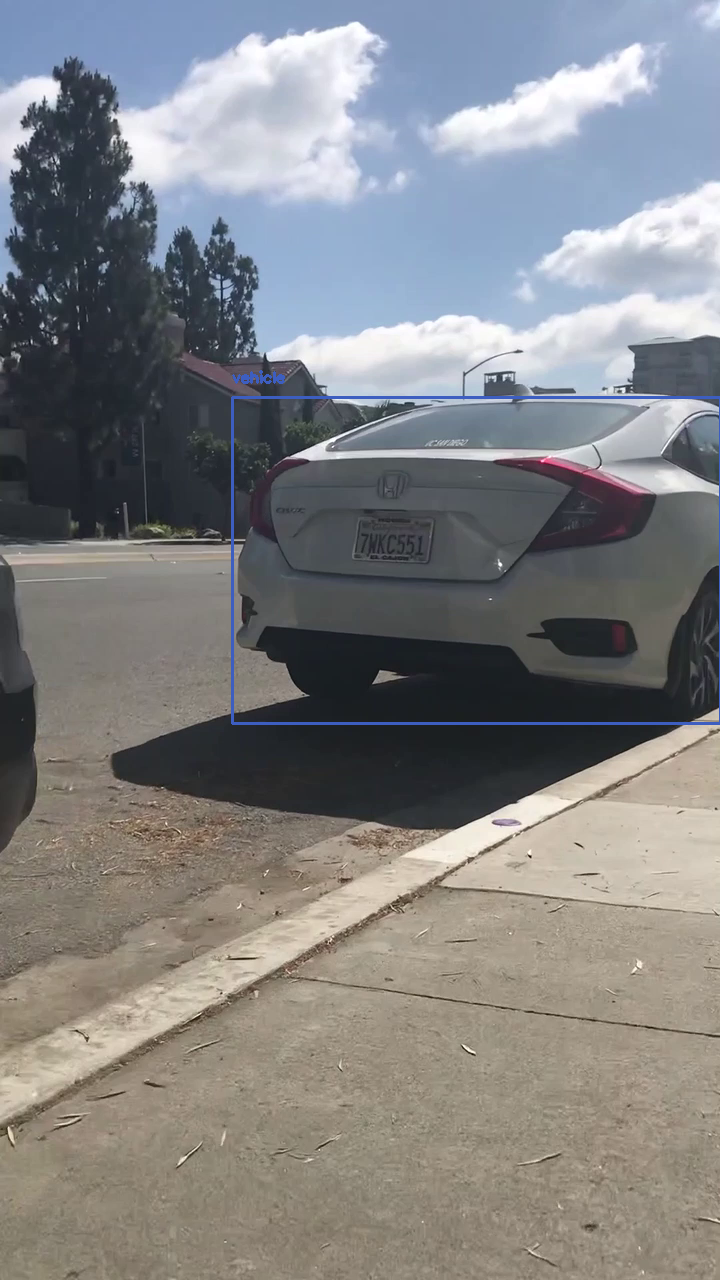vehicle: (232, 397, 720, 723)
